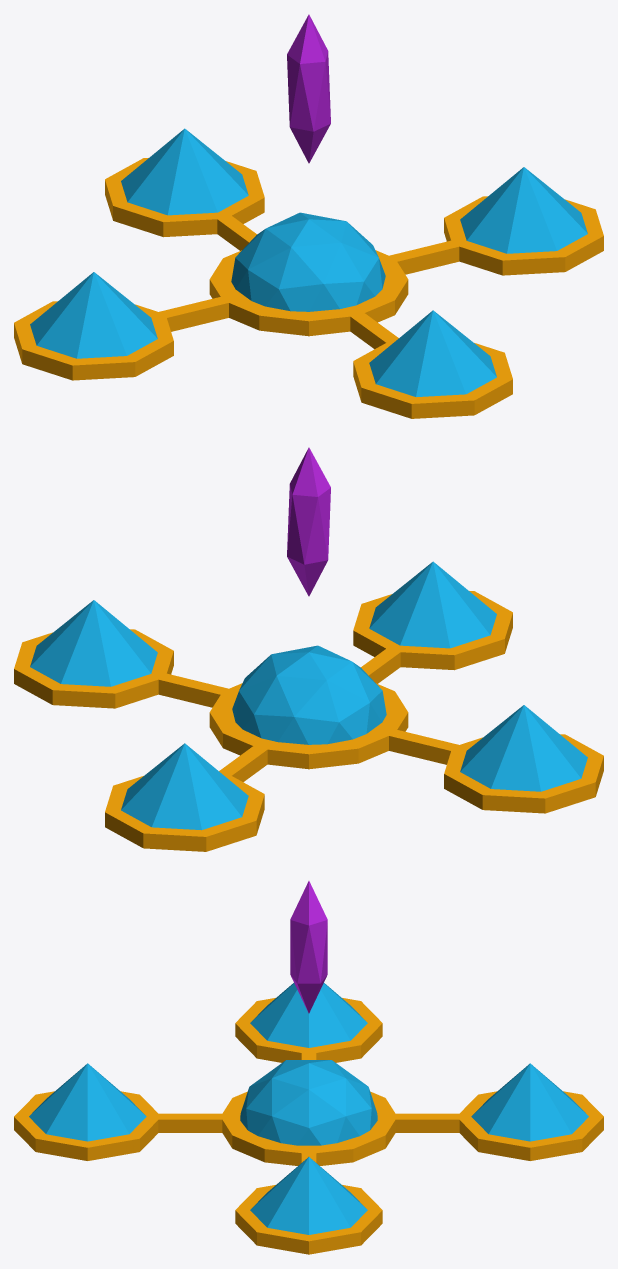
The model's file is Space_HQ_Lvl_3.fbx.
The picture shows the model from 3 angles, top to bottom: view 1: azimuth 30°, elevation 25°; view 2: azimuth 150°, elevation 25°; view 3: azimuth 270°, elevation 25°; orthographic projection. The views are drawn at different scales.
Visible parts, largest first — view 1: Icosphere.001; view 2: Icosphere.001; view 3: Icosphere.001.
Part boxes in pixels (left/top/right/bottom): Icosphere.001: left=14, top=14, right=603, bottom=418; Icosphere.001: left=14, top=447, right=603, bottom=851; Icosphere.001: left=14, top=881, right=603, bottom=1254.
Size of the model in its own units: 400 by 187 by 400.
